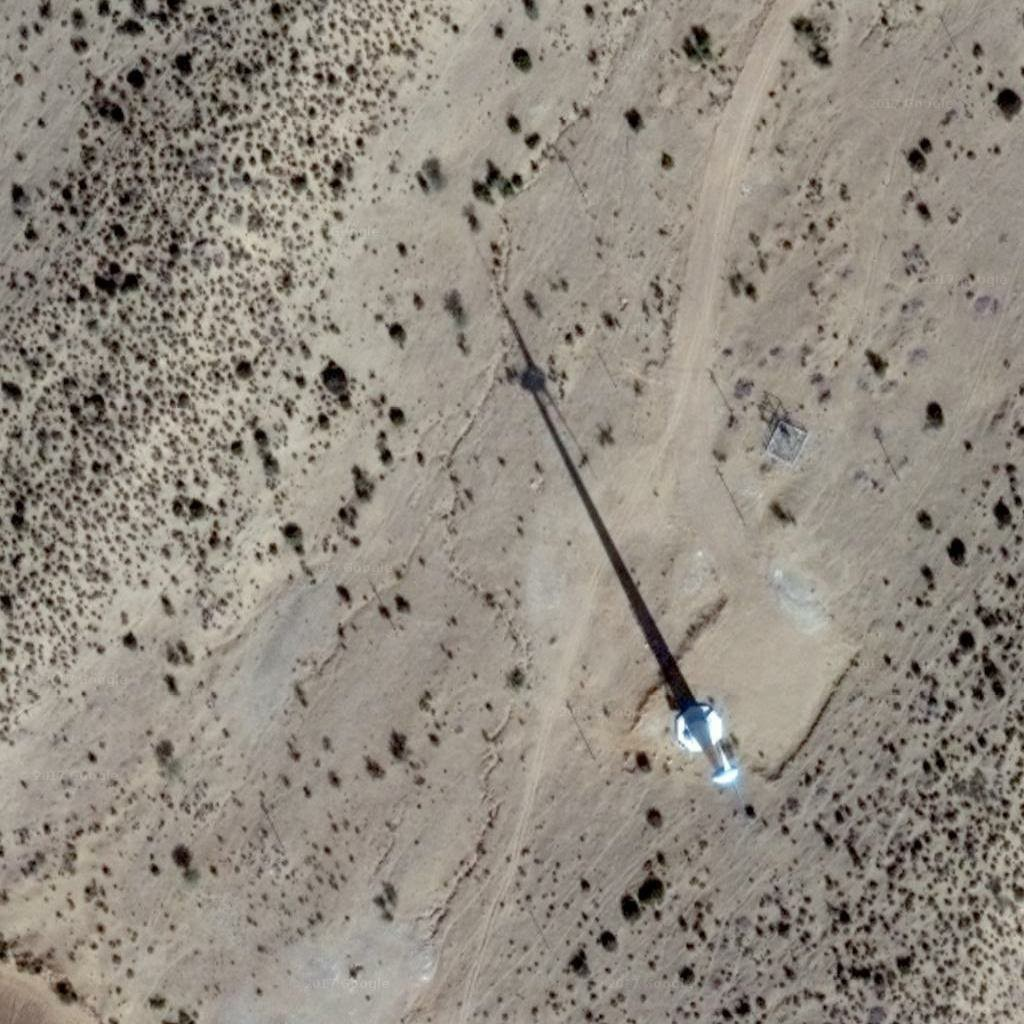Windmill: (479, 311, 679, 657)
